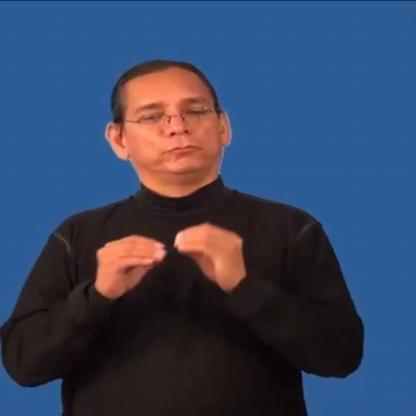Fix: (87, 202, 237, 316)
